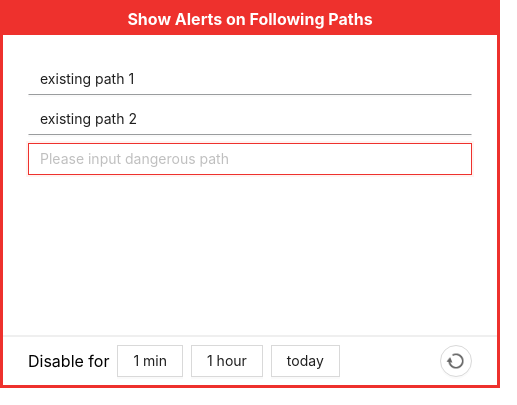
Modify Path List › should delete the duplicated path when change an existing path
The image size is (517, 405).
Click the button "existing path 2" at (88, 118), box [28,103,472,135]
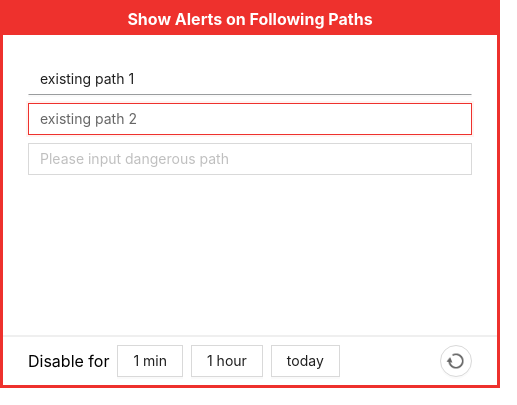
Replace the text in the 1st field with " existing path 1 " at (250, 119), box [28,103,472,135]
Then press Enter
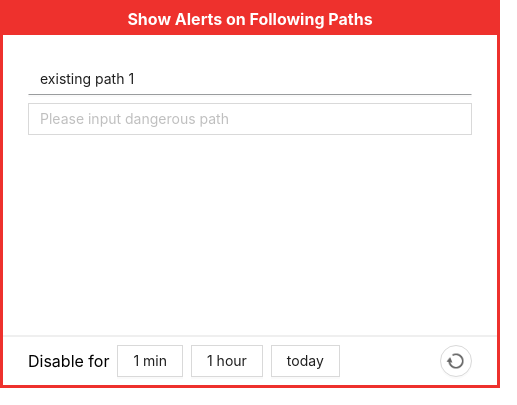
Now the number of elements with class "InputContainer" is 2, box [28,63,472,95]; [28,103,472,135]
